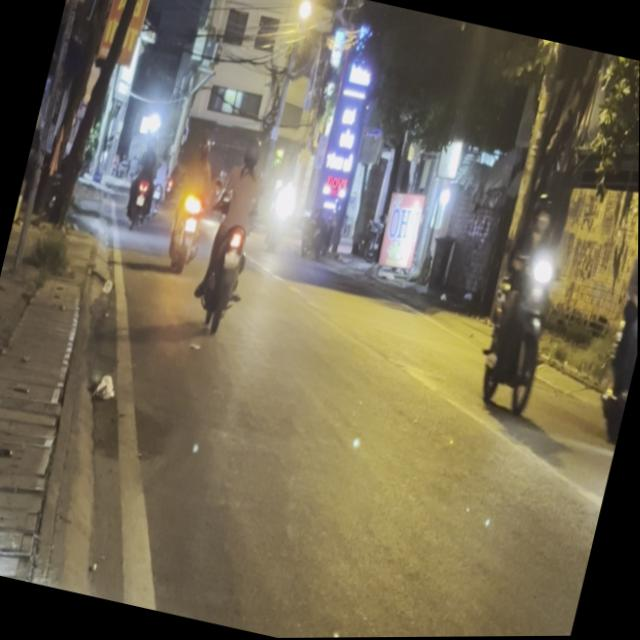helmet: (529, 191, 558, 238), (241, 137, 265, 171)
licenseplate: (467, 181, 584, 423), (187, 130, 280, 336), (584, 200, 639, 458)
nohelmet: (223, 249, 242, 270)
